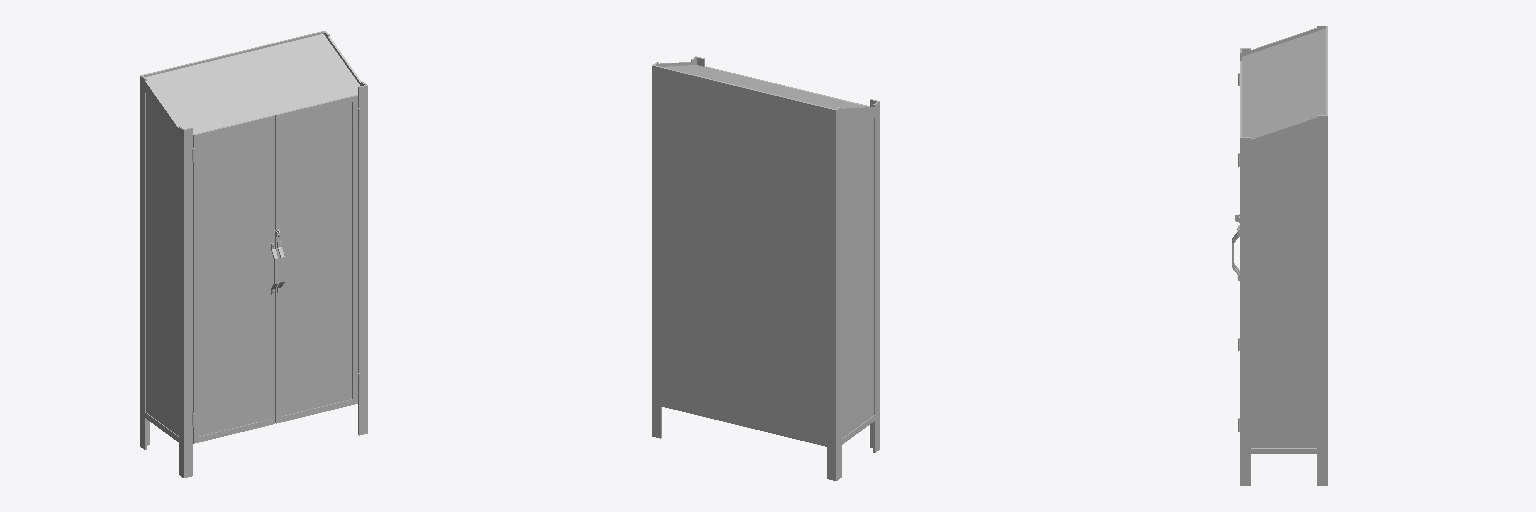
File: shelf_mx_8.obj
The picture shows the model from 3 angles: view 1: azimuth 30°, elevation 25°; view 2: azimuth 150°, elevation 25°; view 3: azimuth 270°, elevation 25°; orthographic projection.
Parts seen in each view (by area): view 1: shelf_mx_8, shelf_mx_8_door_right, shelf_mx_8_door_left; view 2: shelf_mx_8; view 3: shelf_mx_8.
Boxes of the visible parts, x1=… form: shelf_mx_8: x1=140, y1=31, x2=367, y2=477; shelf_mx_8_door_right: x1=275, y1=95, x2=359, y2=423; shelf_mx_8_door_left: x1=192, y1=115, x2=277, y2=443; shelf_mx_8: x1=652, y1=56, x2=879, y2=480; shelf_mx_8: x1=1240, y1=26, x2=1327, y2=485.
Bounding box in the file's own units: 1.02 × 1.96 × 0.458.